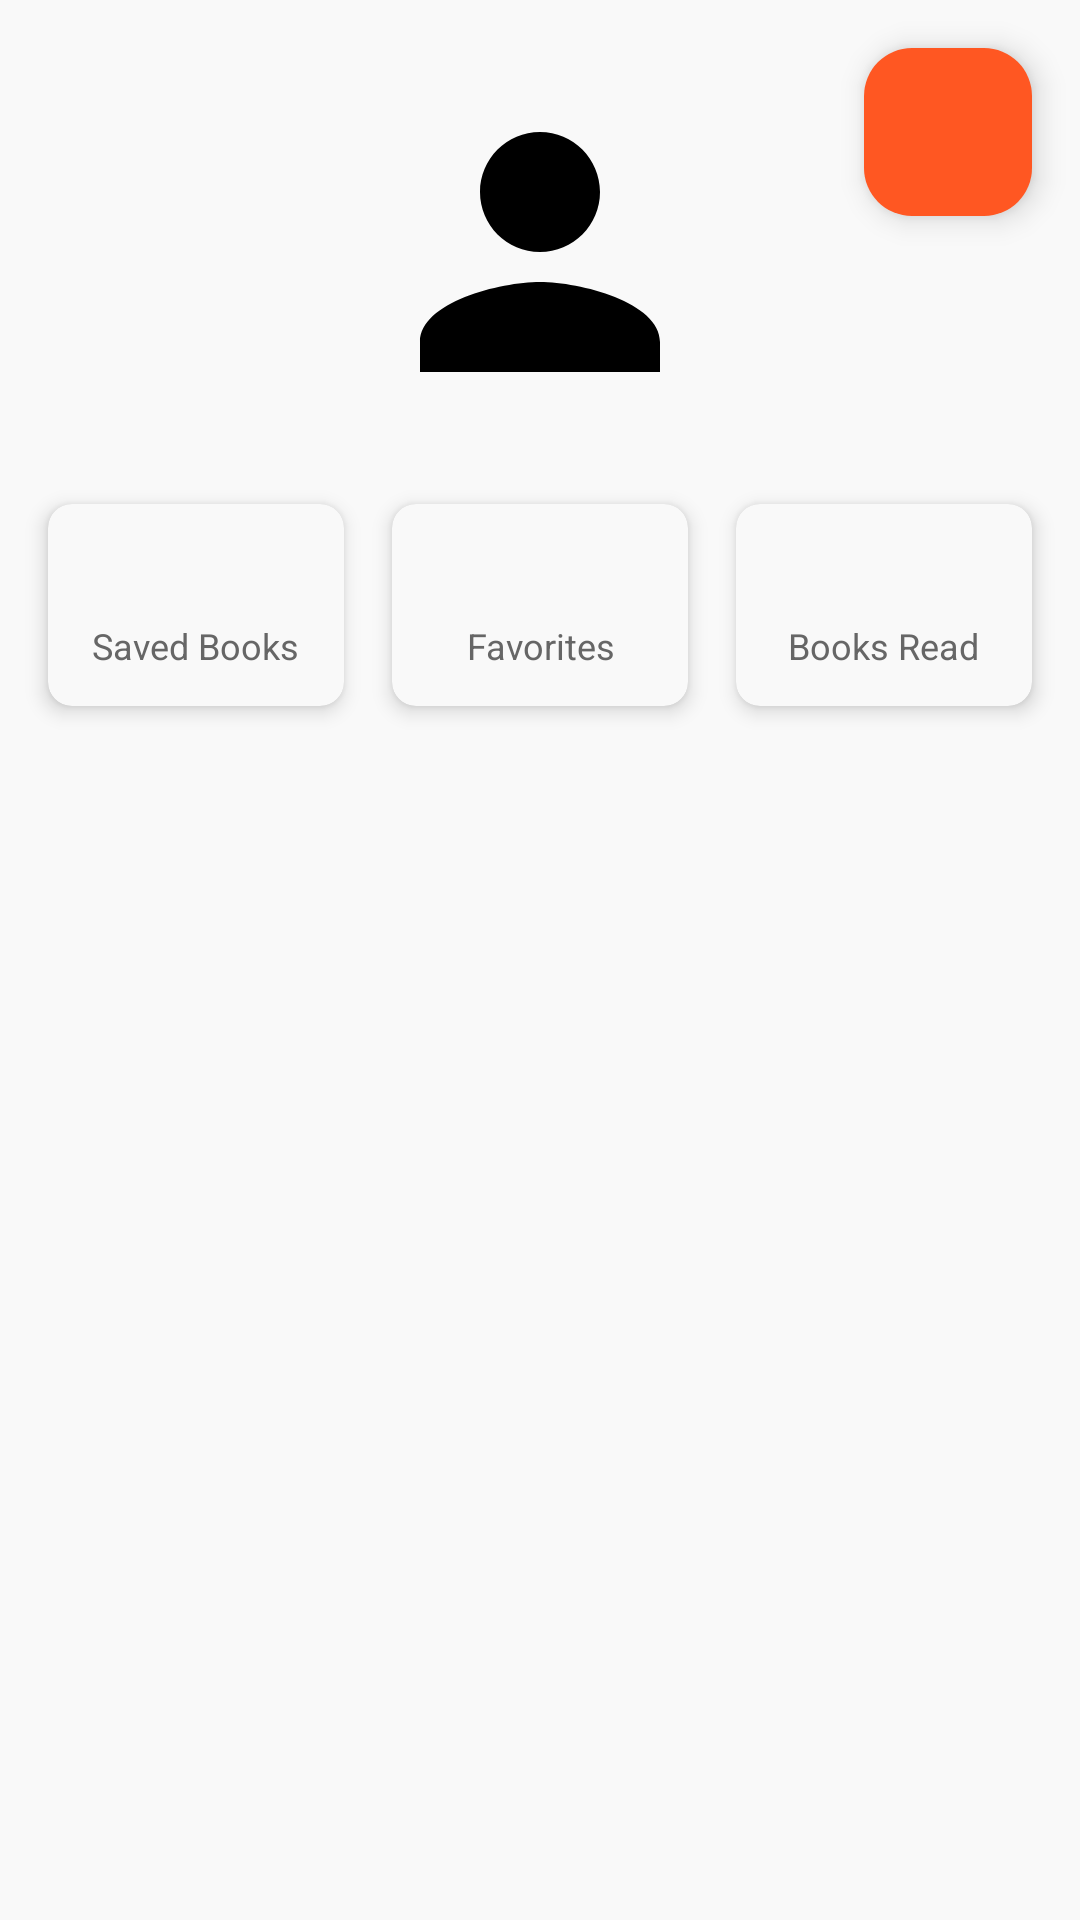

Screen size 1080w x 1920h. Icon name, then its box in pixels as rect(x1, y1, x2, y2):
person: rect(420, 132, 660, 372)
